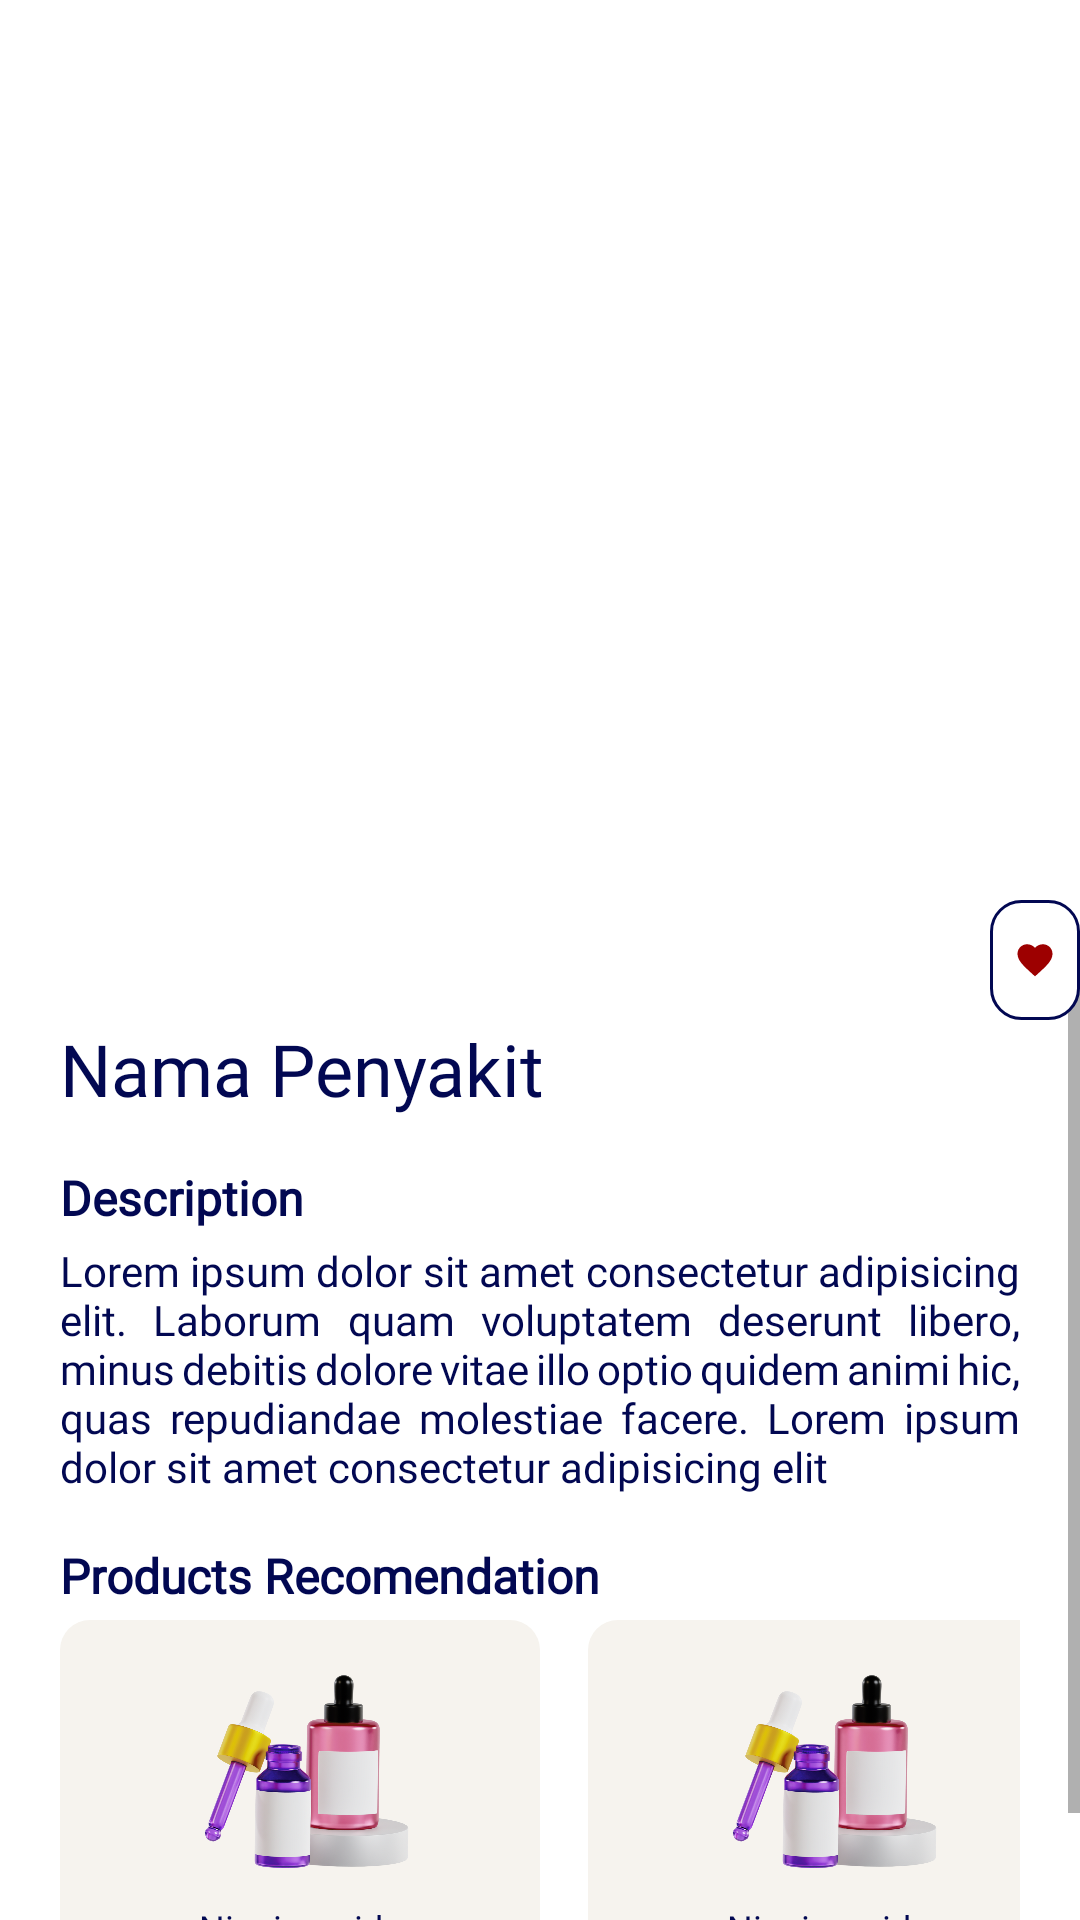

Locate icon controls on the screen. Image size 1080w x 1920h, boxes as (x1,y1,x2,y2).
favorite: (990,900,1080,1020)
